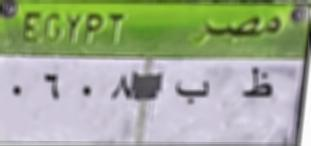0: (76, 79, 98, 102), (7, 78, 29, 101)
6: (42, 68, 63, 108)
8: (110, 73, 132, 106)
Thaa: (237, 64, 277, 108)
baa: (173, 75, 213, 107)
